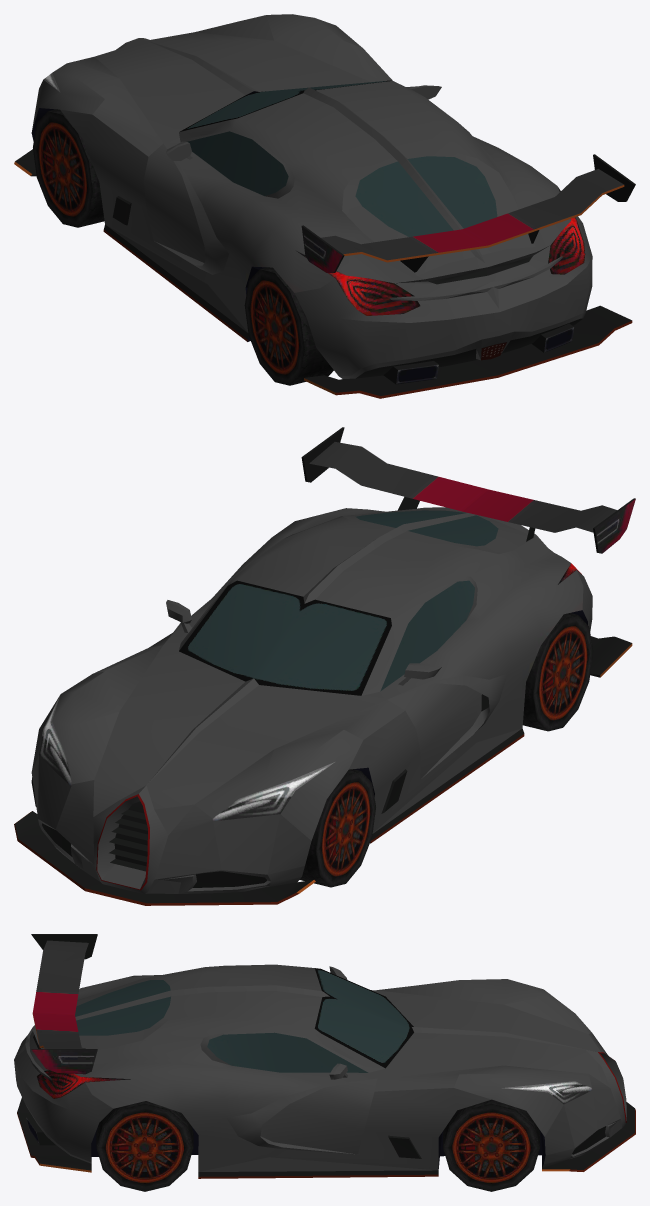
Rendered from car_68.glb.
3 renders of one model, top to bottom at view 1: azimuth 30°, elevation 25°; view 2: azimuth 150°, elevation 25°; view 3: azimuth 270°, elevation 25°, orthographic. The views are drawn at different scales.
Visible parts, largest first — view 1: car_68; view 2: car_68; view 3: car_68.
Boxes of the visible parts, bbox=[...] form: car_68: bbox=[14, 14, 635, 398]; car_68: bbox=[14, 427, 635, 905]; car_68: bbox=[14, 934, 635, 1191].
Size of the model in its own units: 20.1 by 12.07 by 45.21.
Materials: 11 (11 with a texture image).
